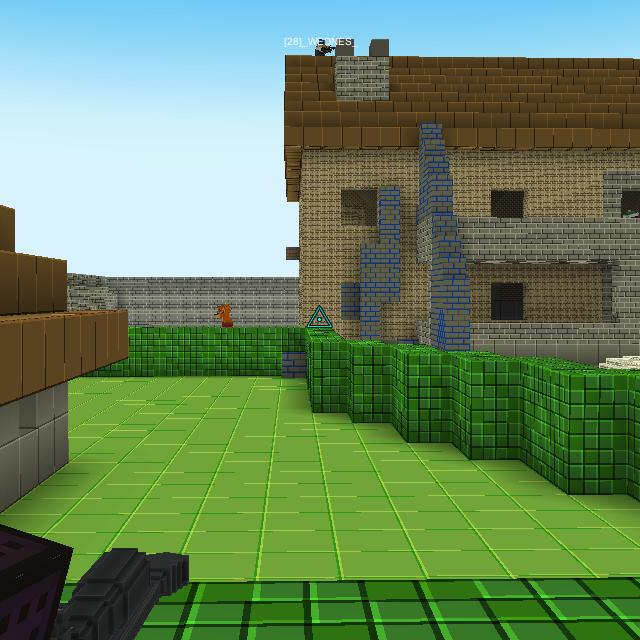enemy: (214, 303, 233, 327), (622, 209, 640, 218)
